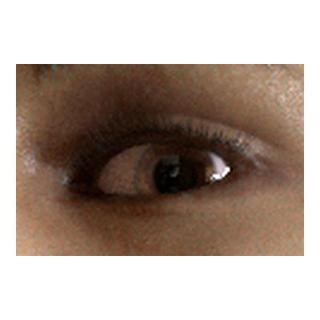pupil: (154, 155, 197, 198)
